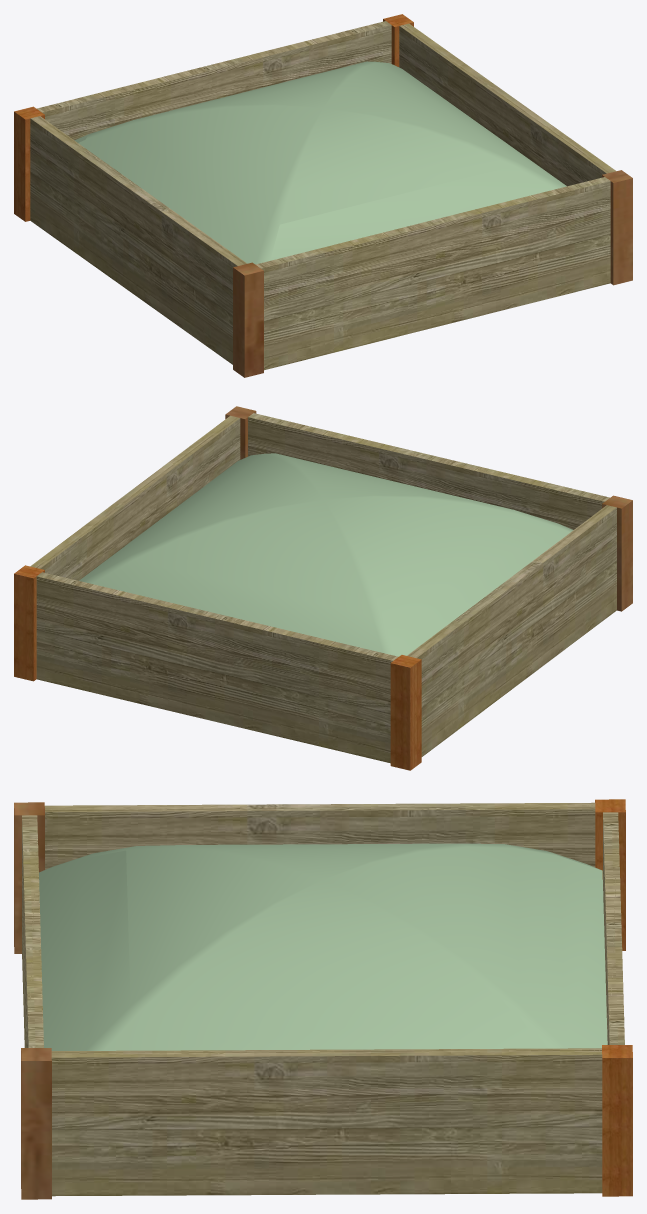
File: compostbins.gltf
The picture shows the model from 3 angles, top to bottom: view 1: azimuth 30°, elevation 25°; view 2: azimuth 150°, elevation 25°; view 3: azimuth 270°, elevation 25°; orthographic projection. The views are drawn at different scales.
Parts seen in each view (by area): view 1: compostbin.001; view 2: compostbin.001; view 3: compostbin.001.
Part boxes in pixels (<box>): compostbin.001: <box>14,14,632,377</box>; compostbin.001: <box>14,406,632,770</box>; compostbin.001: <box>14,799,632,1199</box>.
Size of the model in its own units: 202 by 68.13 by 202.
5 materials, 4 textured.
